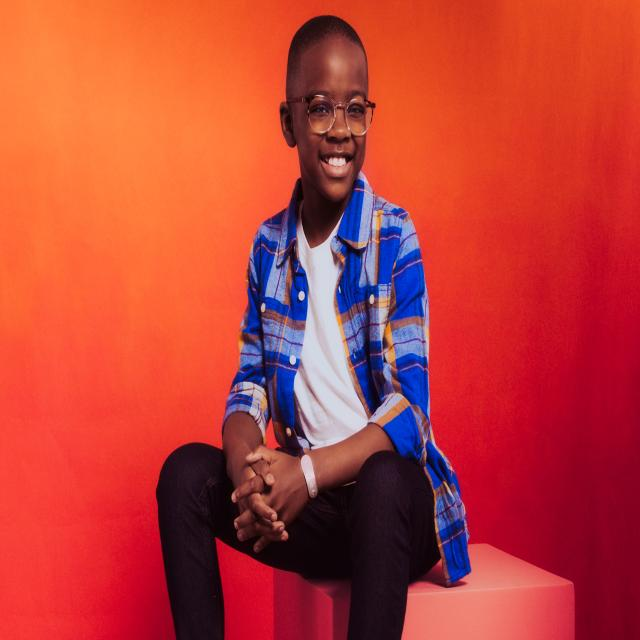child: (155, 13, 469, 639)
